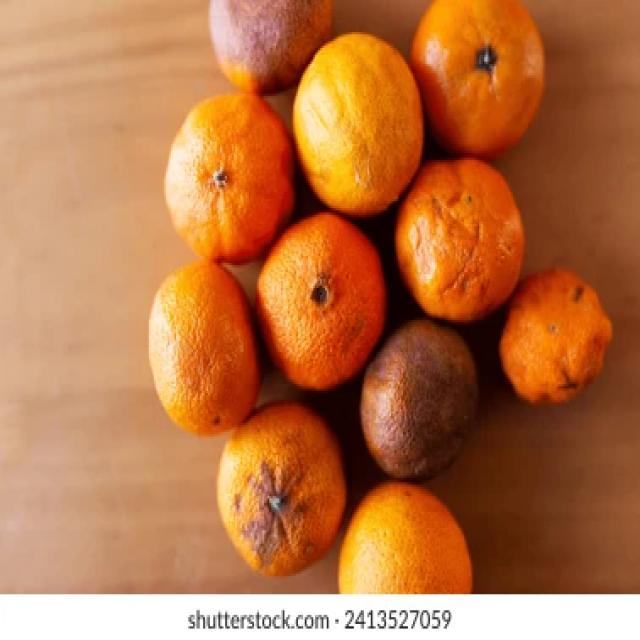overripe: (289, 32, 427, 218), (212, 401, 349, 582), (159, 88, 292, 262), (391, 151, 525, 317), (262, 216, 387, 385), (412, 0, 547, 153), (363, 316, 482, 478), (148, 262, 256, 436), (504, 265, 613, 408), (344, 485, 474, 598), (208, 0, 331, 91)
